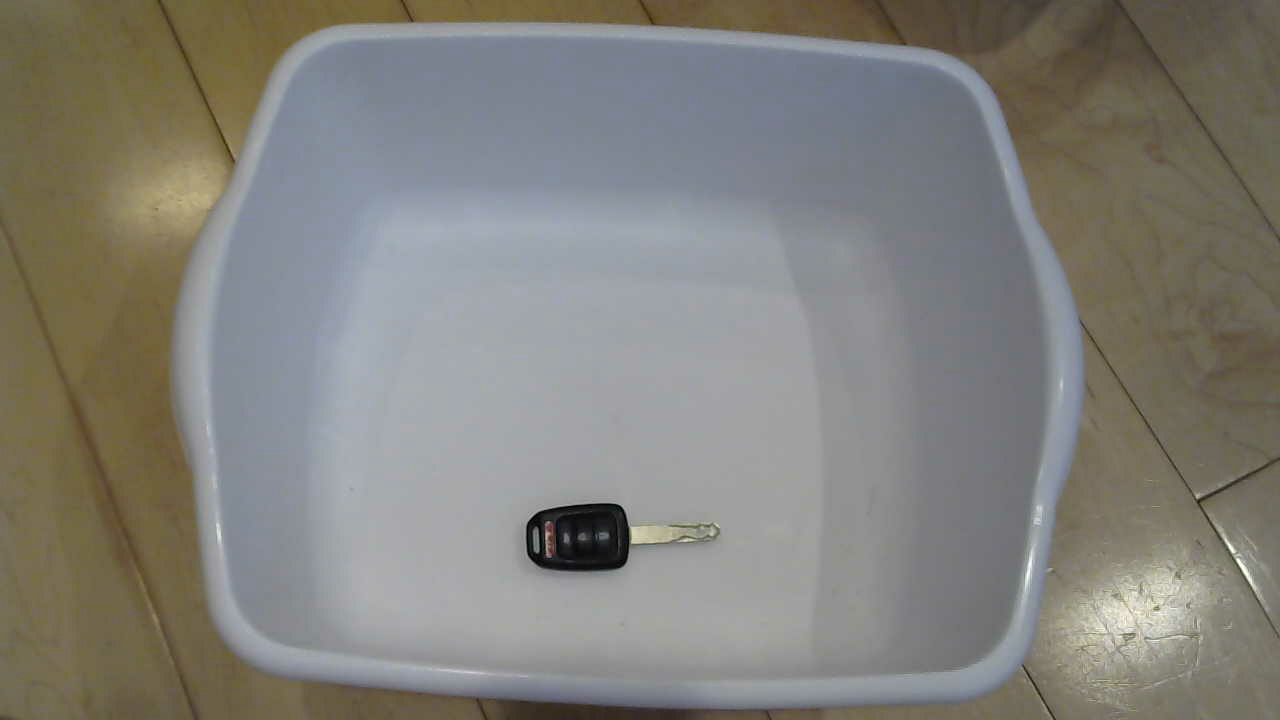key: (518, 495, 744, 591)
